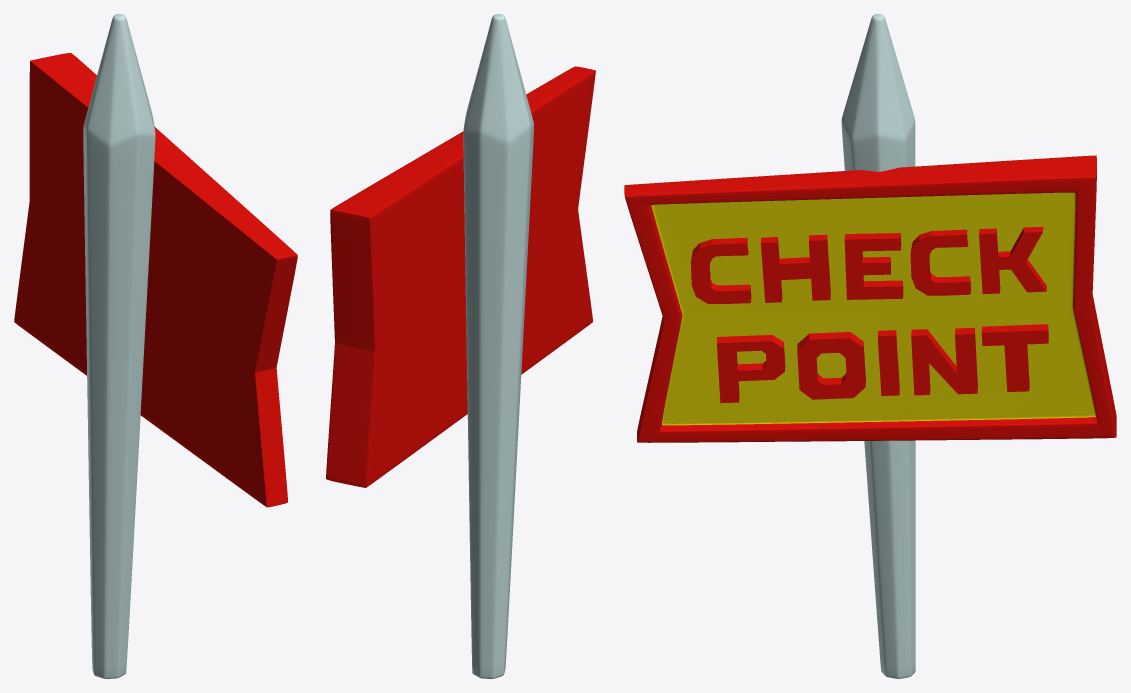
File: checkpoint.fbx
3 views of the same model, side by side, from view 1: azimuth 30°, elevation 25°; view 2: azimuth 150°, elevation 25°; view 3: azimuth 270°, elevation 25° (orthographic). The views are drawn at different scales.
Parts seen in each view (by area): view 1: Cube, Cylinder; view 2: Cube, Cylinder; view 3: Cube, Cube.004, Cylinder.
Part boxes in pixels (x1,y1,x2,y2): Cube: (14, 53, 297, 507); Cylinder: (83, 14, 155, 678); Cube: (326, 66, 595, 487); Cylinder: (463, 14, 533, 678); Cube: (624, 155, 1116, 442); Cube.004: (691, 226, 1048, 403); Cylinder: (841, 14, 915, 678).
Size of the model in its own units: 57.17 by 383 by 260.
